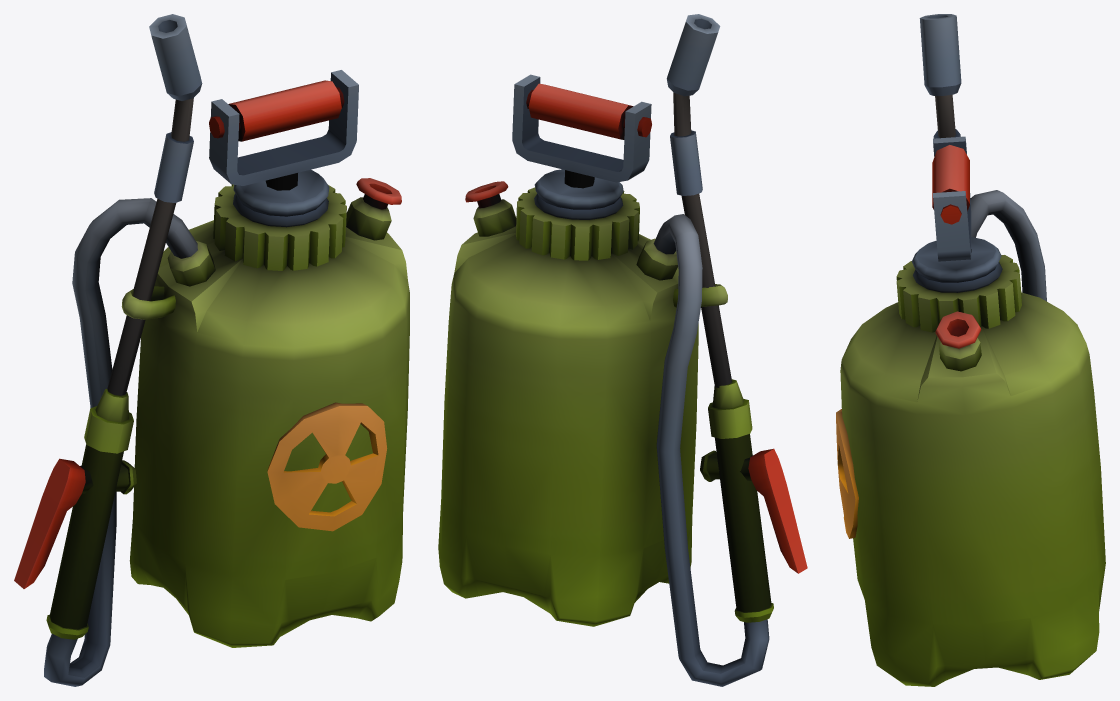
The model's file is Back_Insecticide_Bottle.gltf.
3 views of the same model, side by side, from view 1: azimuth 30°, elevation 25°; view 2: azimuth 150°, elevation 25°; view 3: azimuth 270°, elevation 25° (orthographic). The views are drawn at different scales.
Parts seen in each view (by area): view 1: Back_Insecticide_Bottle; view 2: Back_Insecticide_Bottle; view 3: Back_Insecticide_Bottle.
Part boxes in pixels (bbox=[...]): Back_Insecticide_Bottle: bbox=[14, 14, 409, 686]; Back_Insecticide_Bottle: bbox=[438, 14, 807, 686]; Back_Insecticide_Bottle: bbox=[836, 14, 1105, 686].
Bounding box in the file's own units: 0.6693 × 1.17 × 0.4534.
Materials: 2 (2 with a texture image).
